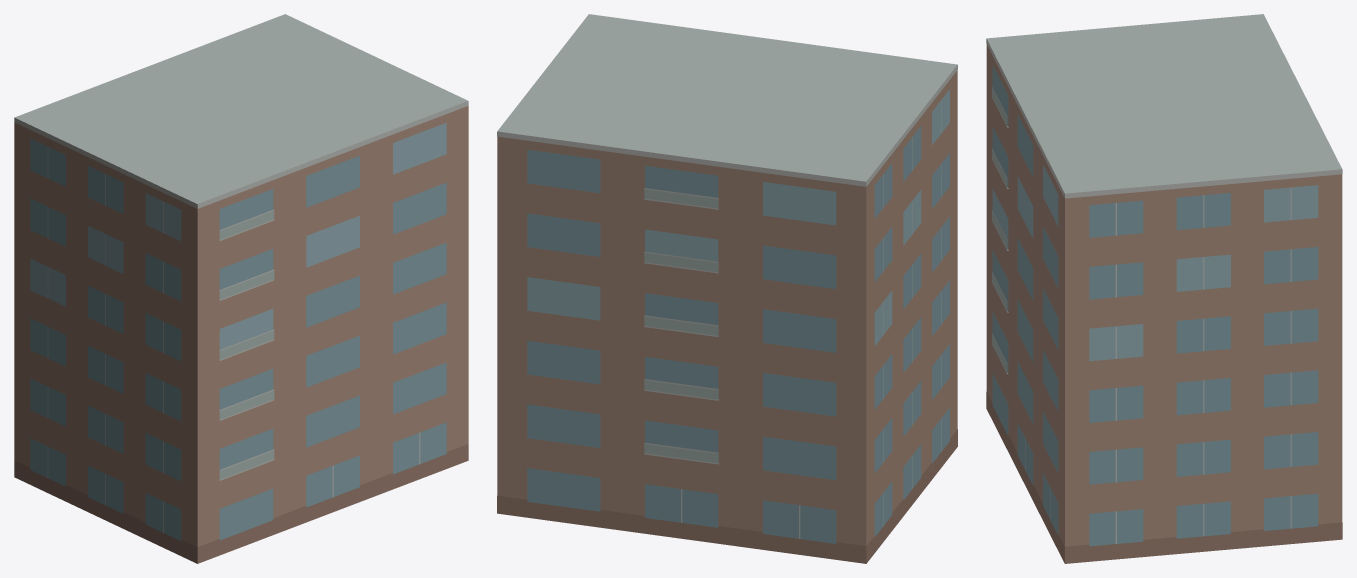
The model's file is survey-upis-32696855.glb.
3 renders of one model, left to right at view 1: azimuth 30°, elevation 25°; view 2: azimuth 150°, elevation 25°; view 3: azimuth 270°, elevation 25°, orthographic. The views are drawn at different scales.
Parts seen in each view (by area): view 1: survey-upis-32696855.tmp; view 2: survey-upis-32696855.tmp; view 3: survey-upis-32696855.tmp.
Part boxes in pixels (x1,y1,x2,y2): survey-upis-32696855.tmp: [14, 14, 468, 563]; survey-upis-32696855.tmp: [497, 14, 957, 563]; survey-upis-32696855.tmp: [986, 14, 1342, 563].
Size of the model in its own units: 19.06 by 18.3 by 15.96.
